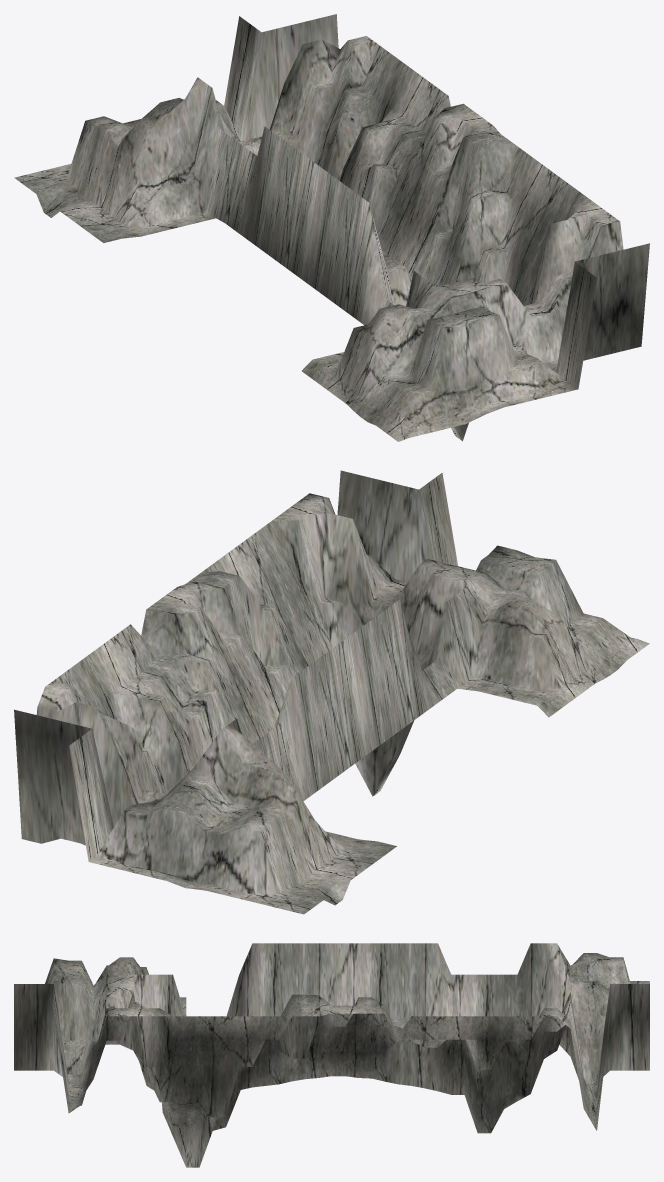
File: DWARF_PALACE_MAINHALL_CELLING02B.fbx
3 views of the same model, one above another, from view 1: azimuth 30°, elevation 25°; view 2: azimuth 150°, elevation 25°; view 3: azimuth 270°, elevation 25° (orthographic). The views are drawn at different scales.
Parts seen in each view (by area): view 1: DWARF_PALACE_MAINHALL_CELLING02B; view 2: DWARF_PALACE_MAINHALL_CELLING02B; view 3: DWARF_PALACE_MAINHALL_CELLING02B.
Part boxes in pixels (x1,y1,x2,y2): DWARF_PALACE_MAINHALL_CELLING02B: [14, 14, 649, 441]; DWARF_PALACE_MAINHALL_CELLING02B: [14, 470, 649, 914]; DWARF_PALACE_MAINHALL_CELLING02B: [14, 943, 649, 1167].
Size of the model in its own units: 302974 by 223114 by 625275.
Materials: 1 (1 with a texture image).
